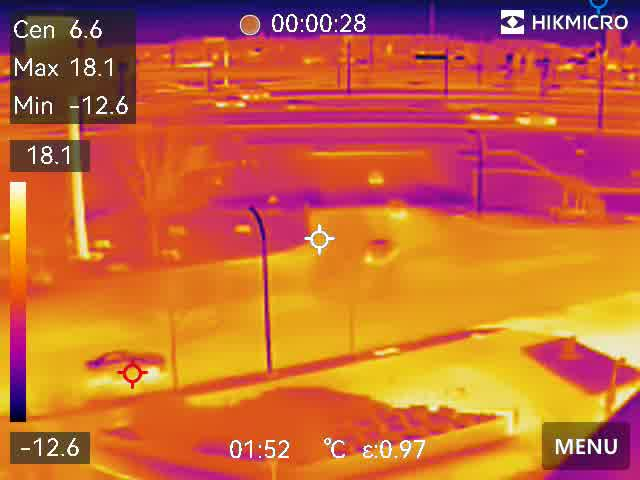smallCar: (83, 349, 171, 379)
vehicle: (360, 235, 396, 267), (516, 109, 559, 131), (465, 105, 504, 124), (361, 168, 388, 188), (212, 96, 246, 110), (240, 87, 270, 102)
